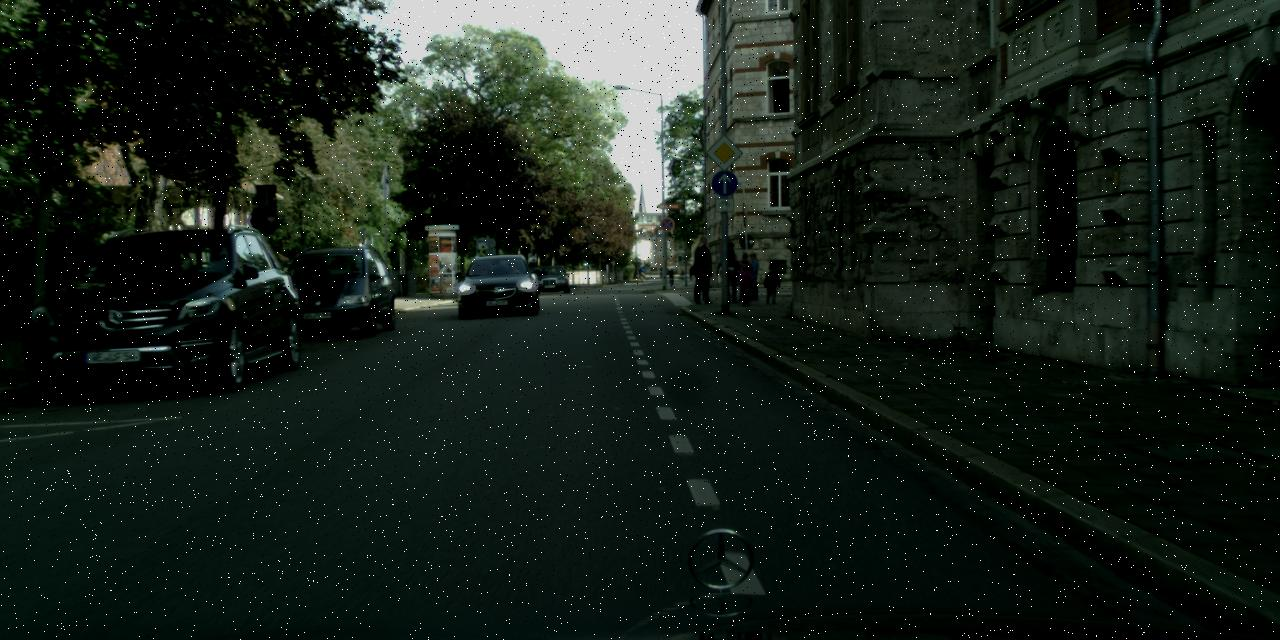ped: (688, 234, 716, 303), (718, 241, 743, 303), (743, 252, 762, 299), (736, 252, 754, 298), (736, 264, 753, 306), (763, 264, 779, 303), (668, 269, 674, 283), (660, 266, 664, 278), (679, 269, 683, 280)
